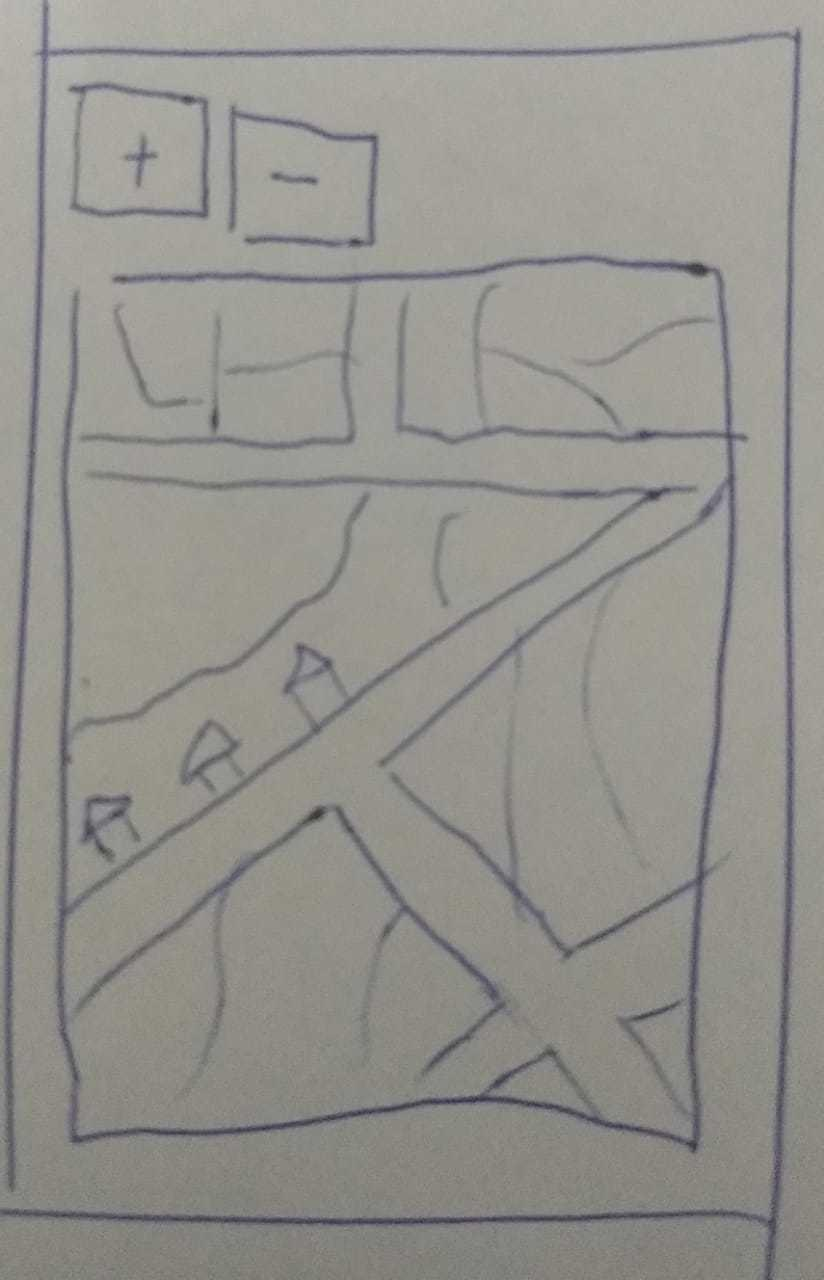Button: (230, 110, 378, 247), (72, 86, 210, 218)
Map: (57, 260, 735, 1142)
Screen: (10, 32, 800, 1230)
